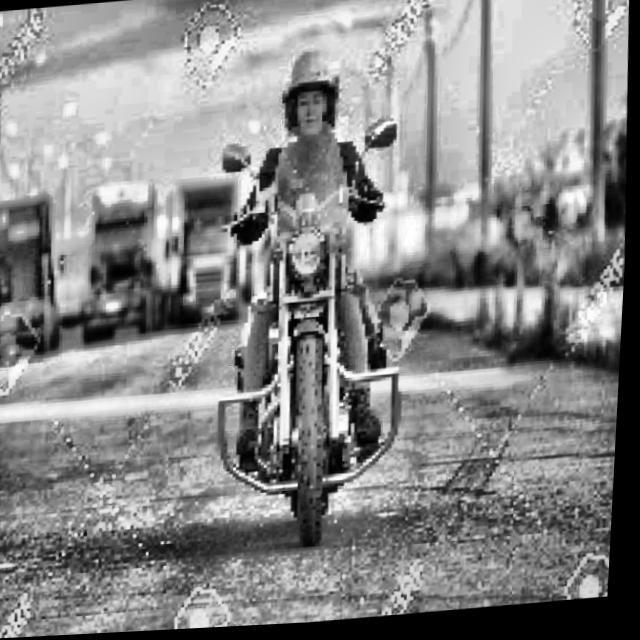motorcycle: (210, 101, 423, 545)
